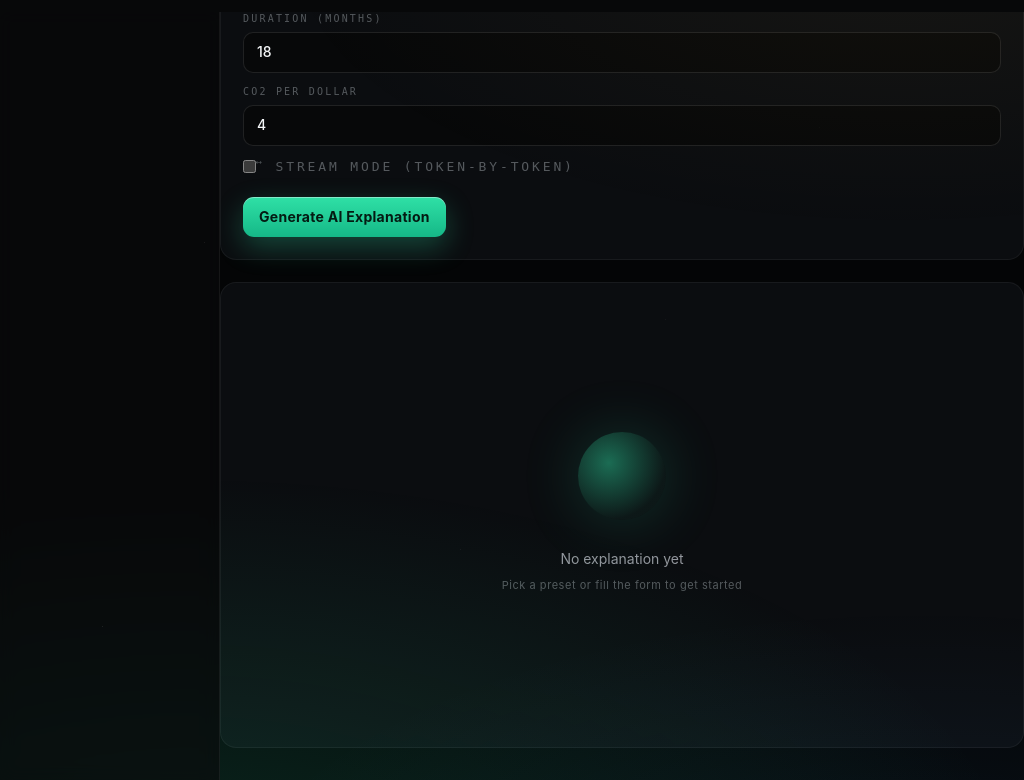
CopilotPage (production path) › streams with the same attributions, never the old constants (F017)
(page scrolled)
Click the checkbox labelled "⃡ Stream mode (token-by-token)" at (250, 166), box [243, 160, 256, 173]
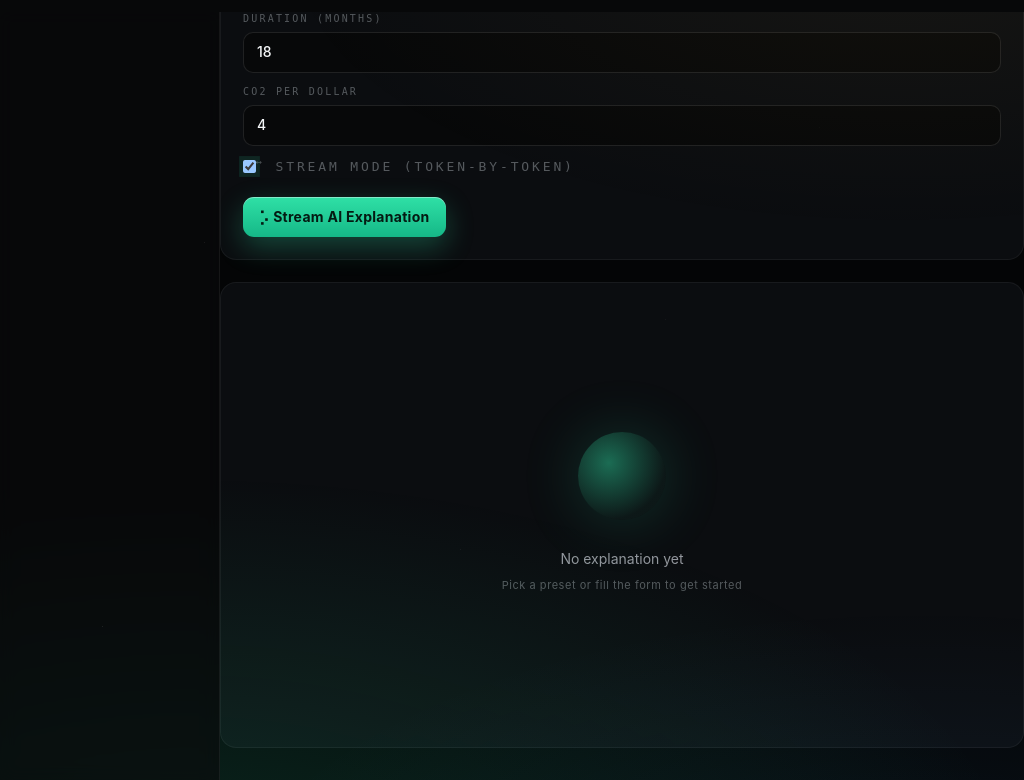
Click the button "⡡ Stream AI Explanation" at (344, 217), box [243, 197, 446, 237]
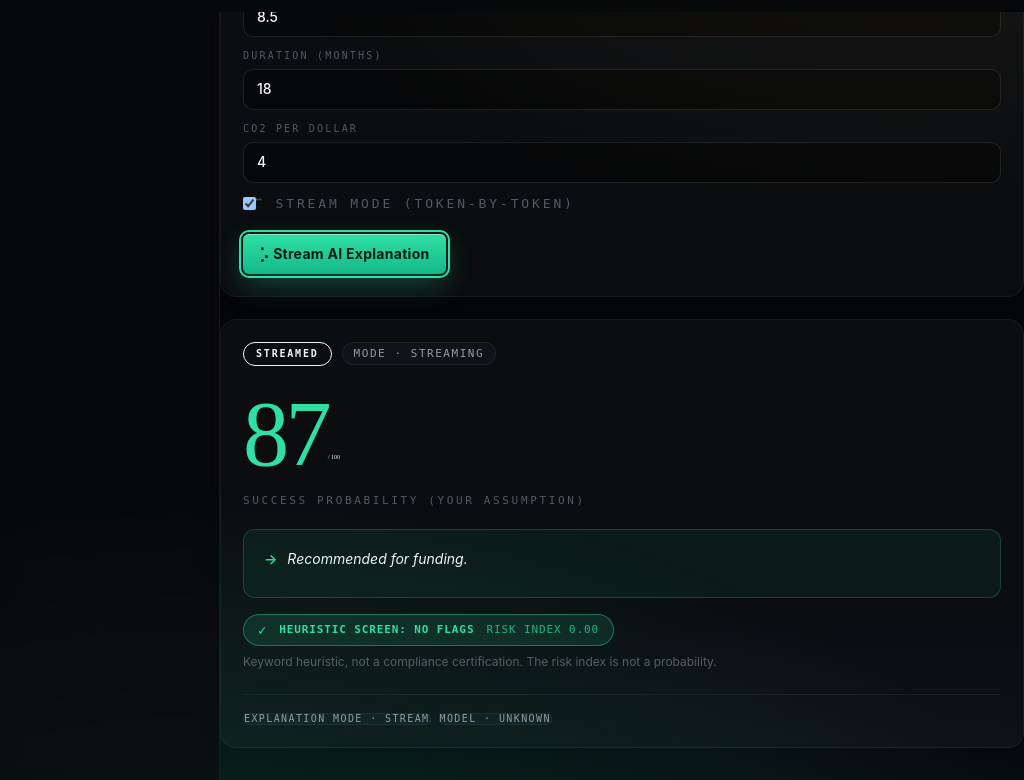
Now the text "Recommended for funding." is shown, box [287, 548, 468, 571]
